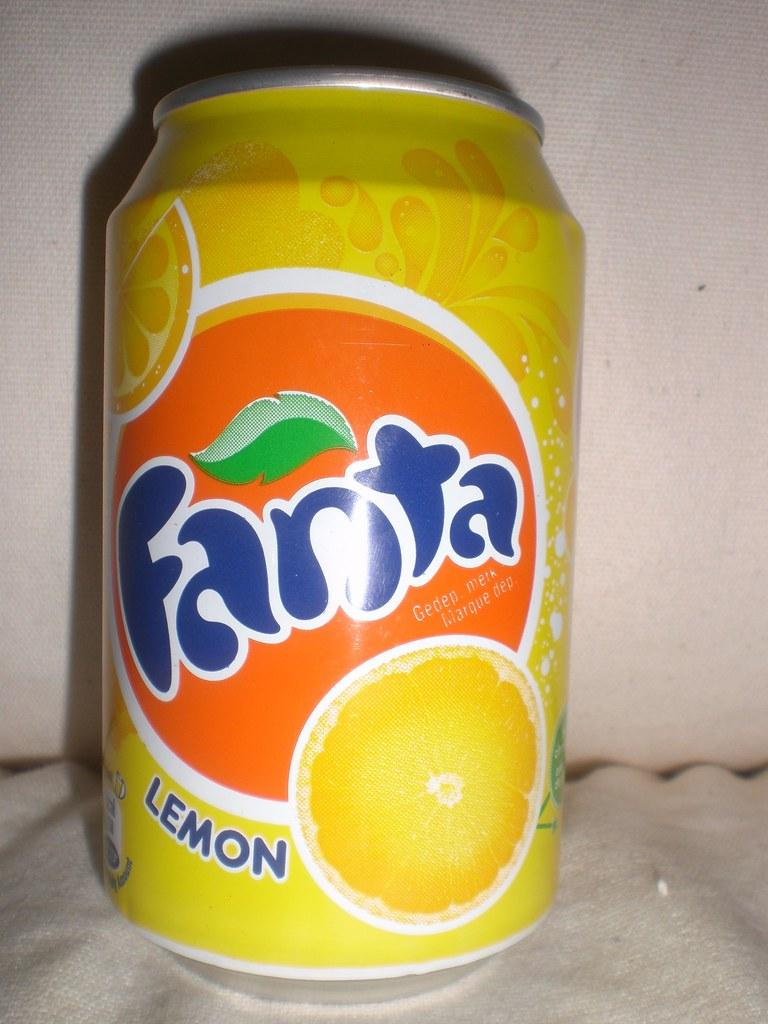metal: (103, 72, 584, 983)
